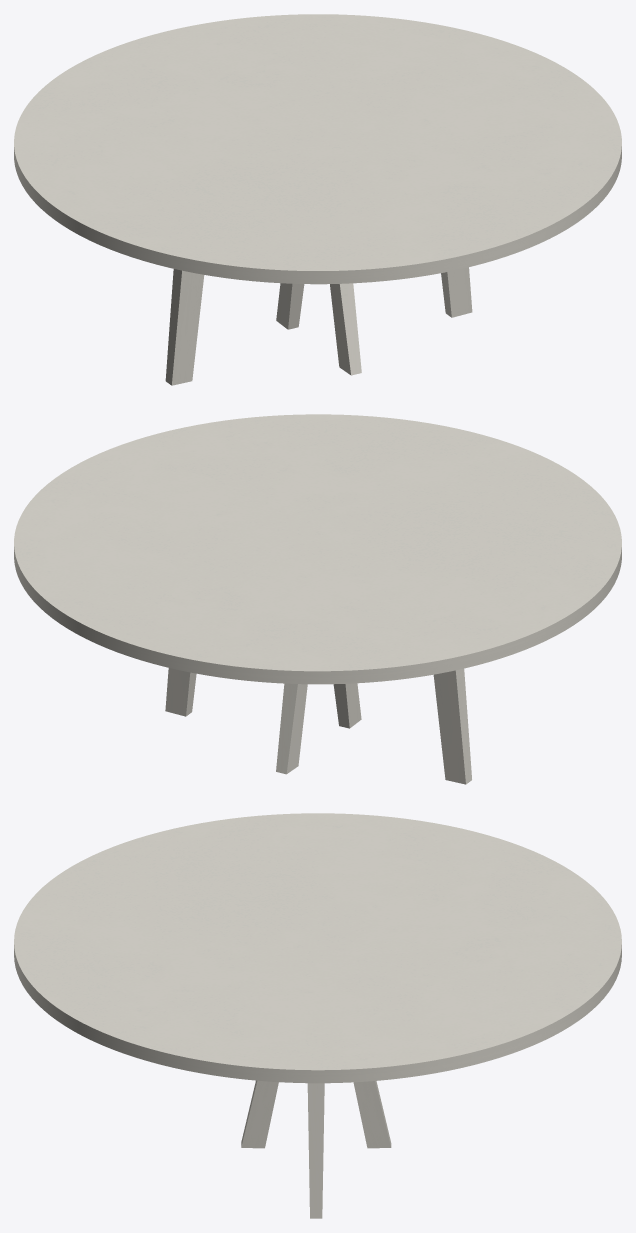
File: pale_round_standard_searwalnut.glb
The picture shows the model from 3 angles, top to bottom: view 1: azimuth 30°, elevation 25°; view 2: azimuth 150°, elevation 25°; view 3: azimuth 270°, elevation 25°; orthographic projection.
Visible parts, largest first — view 1: standard_round, searwalnut; view 2: standard_round, searwalnut; view 3: standard_round, searwalnut.
Part boxes in pixels (x1,y1,x2,y2): standard_round: (14, 14, 621, 284); searwalnut: (165, 267, 472, 385); standard_round: (14, 414, 621, 684); searwalnut: (165, 668, 471, 784); standard_round: (14, 813, 621, 1083); searwalnut: (241, 1080, 391, 1218).
Size of the model in its own units: 6.75 by 2.5 by 6.75.
Materials: 1 (1 with a texture image).
